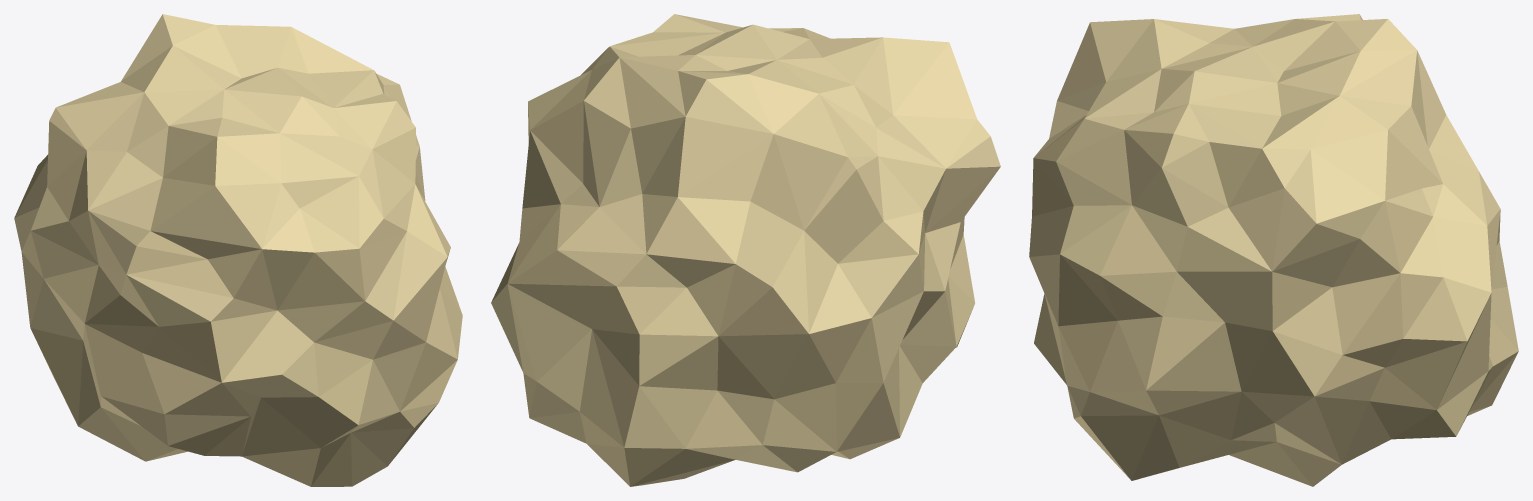
The model's file is Asteroid (115).fbx.
3 views of the same model, side by side, from view 1: azimuth 30°, elevation 25°; view 2: azimuth 150°, elevation 25°; view 3: azimuth 270°, elevation 25° (orthographic). The views are drawn at different scales.
Parts seen in each view (by area): view 1: Asteroid126; view 2: Asteroid126; view 3: Asteroid126.
Boxes of the visible parts, x1=… form: Asteroid126: x1=14, y1=14, x2=462, y2=486; Asteroid126: x1=491, y1=14, x2=1000, y2=486; Asteroid126: x1=1029, y1=14, x2=1518, y2=486.
Bounding box in the file's own units: 271 × 282 × 295.
